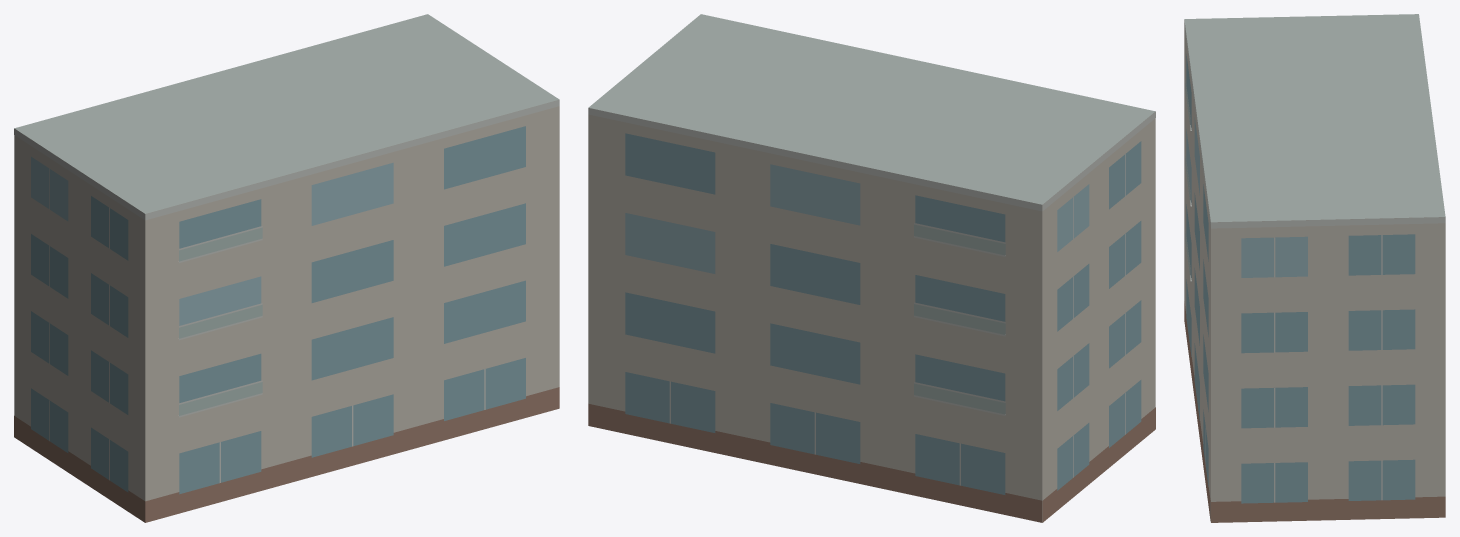
Rendered from survey-upis-32631468.glb.
The picture shows the model from 3 angles, left to right: view 1: azimuth 30°, elevation 25°; view 2: azimuth 150°, elevation 25°; view 3: azimuth 270°, elevation 25°; orthographic projection. The views are drawn at different scales.
Visible parts, largest first — view 1: survey-upis-32631468.tmp; view 2: survey-upis-32631468.tmp; view 3: survey-upis-32631468.tmp.
Part boxes in pixels (bbox=[...]): survey-upis-32631468.tmp: bbox=[14, 14, 559, 522]; survey-upis-32631468.tmp: bbox=[588, 14, 1155, 522]; survey-upis-32631468.tmp: bbox=[1184, 14, 1445, 522].
Size of the model in its own units: 17.17 by 11.55 by 9.11.
